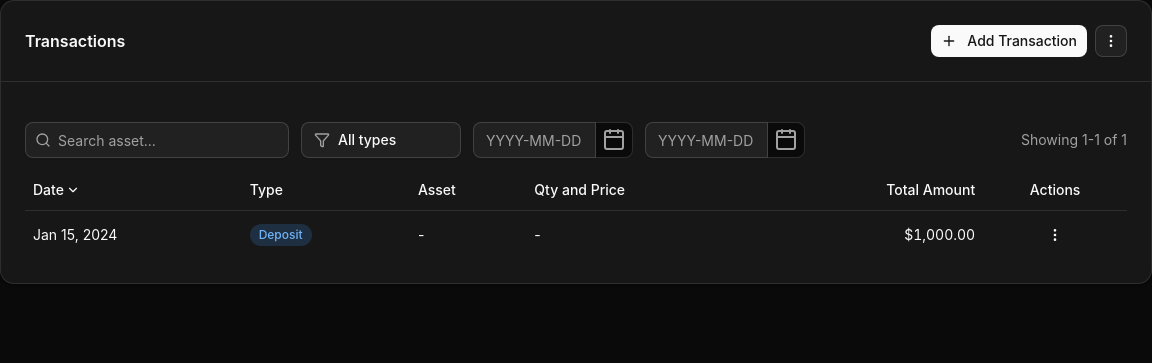
TransactionView › shows error when export CSV fails
The width and height of the screenshot is (1152, 363).
Open actions menu
Click the button named "Transaction table actions menu" at {"x": 1111, "y": 41}, box [1095,25,1127,57]
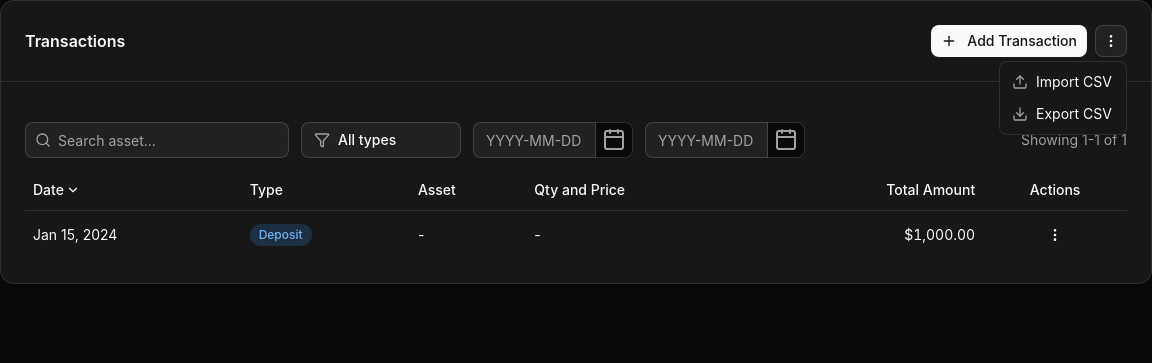
Click Export CSV
Click the menu item "Export CSV" at {"x": 1062, "y": 114}, box [1012,105,1112,122]
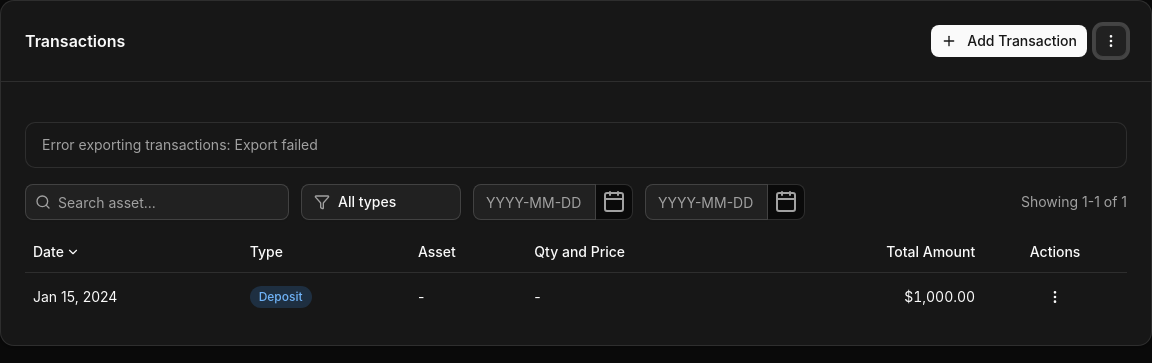
Now the text "Error exporting transactions: Export failed" is shown, box [42,136,318,153]
